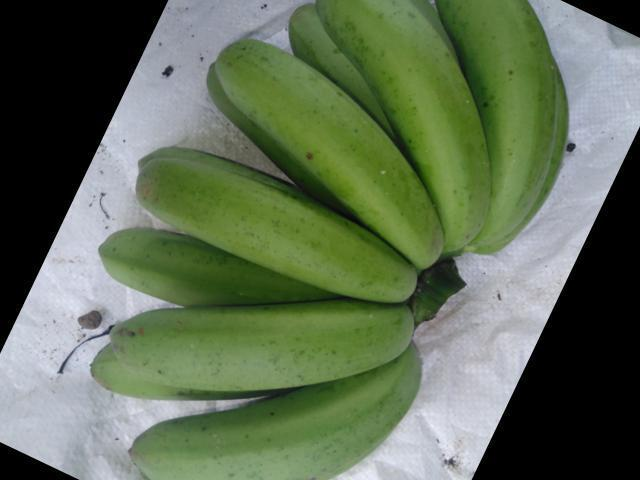unripe: (98, 127, 427, 299), (195, 35, 425, 250), (93, 355, 452, 479), (77, 287, 416, 394), (343, 0, 498, 225)
